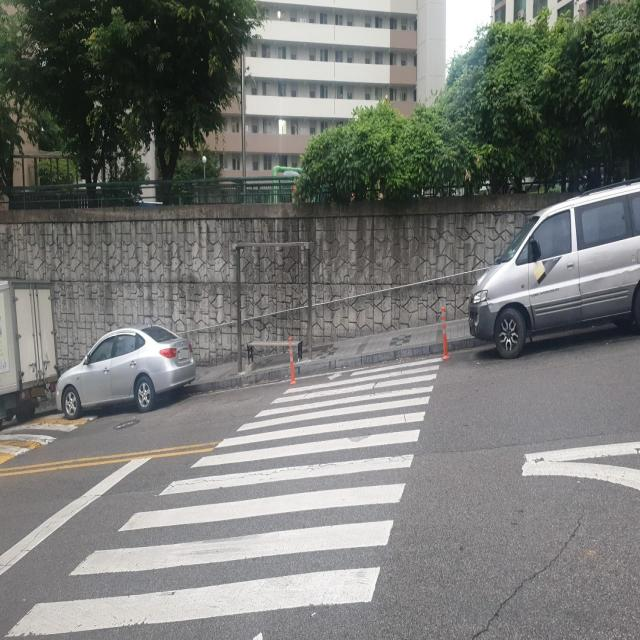횡단보도: (4, 352, 444, 640)
